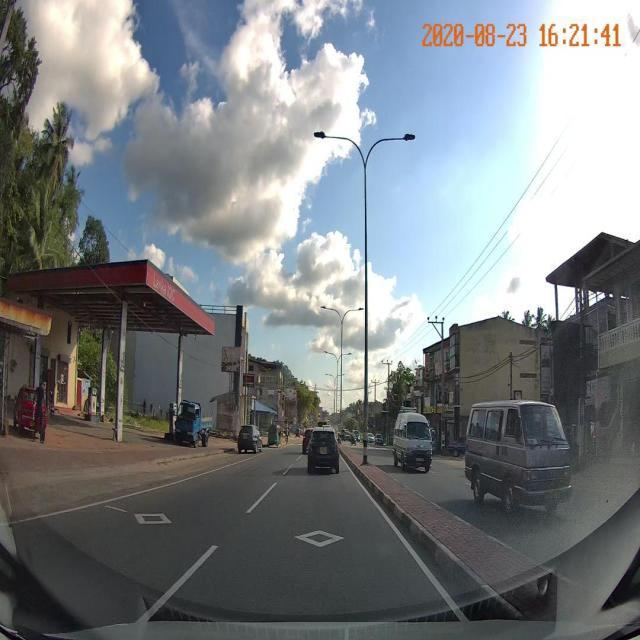Liniya 1: (341, 458, 469, 623), (11, 459, 251, 526), (132, 546, 219, 625), (245, 480, 279, 515), (282, 465, 294, 476)
Romb: (296, 527, 342, 547), (136, 509, 171, 525)
